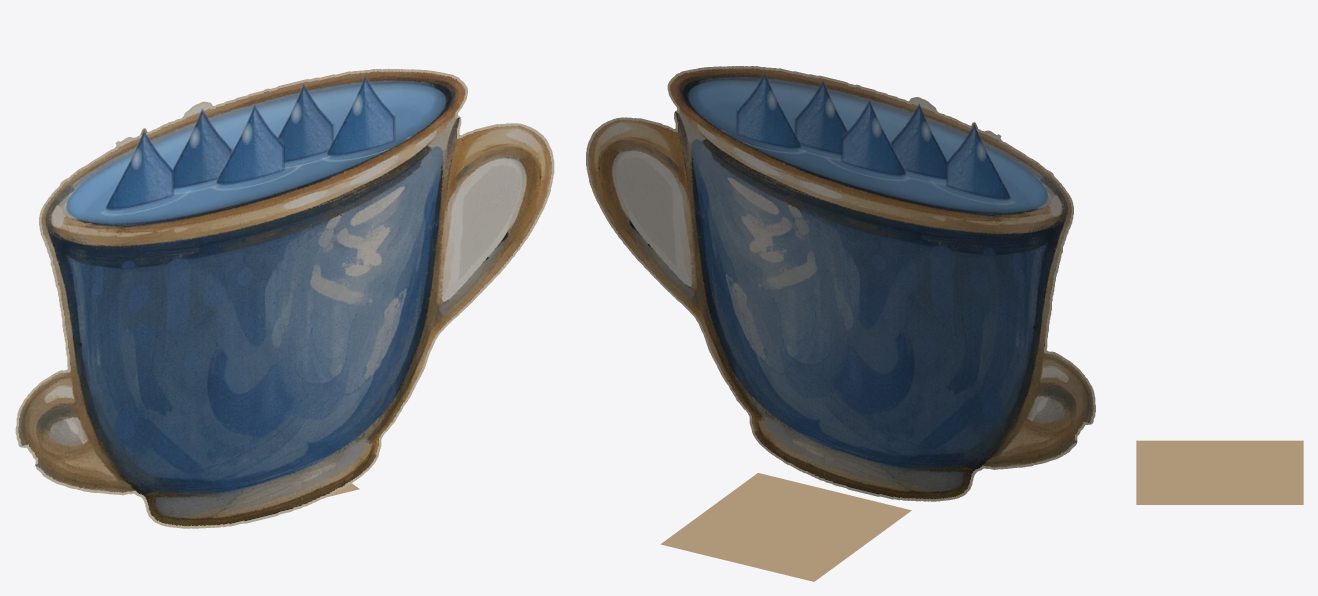
Rendered from toad-standee-cup-full.glb.
3 renders of one model, left to right at view 1: azimuth 30°, elevation 25°; view 2: azimuth 150°, elevation 25°; view 3: azimuth 270°, elevation 25°, orthographic. The views are drawn at different scales.
Parts seen in each view (by area): view 1: cup-full; view 2: cup-full; view 3: cup-full.
Part boxes in pixels (box(x1,y1,x2,y2)): cup-full: box(15, 68, 554, 528); cup-full: box(586, 66, 1095, 581); cup-full: box(1136, 440, 1303, 504).
Size of the model in its own units: 0.1 by 0.0768 by 0.035.
Materials: 1 (1 with a texture image).
